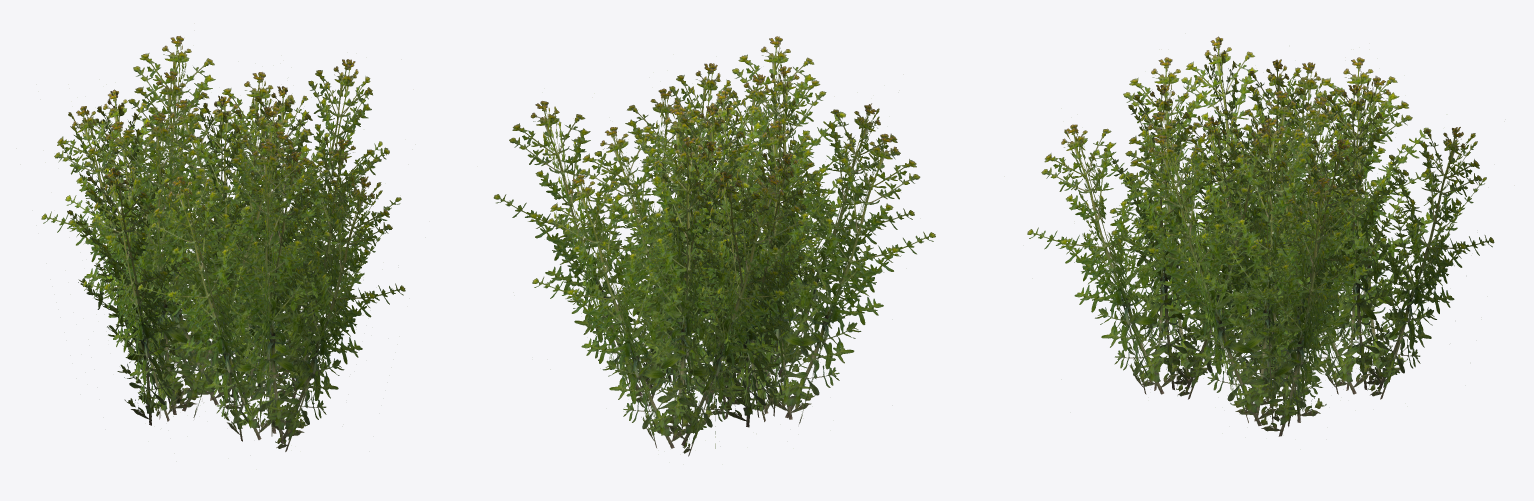
Rendered from bush6.FBX.
3 views of the same model, side by side, from view 1: azimuth 30°, elevation 25°; view 2: azimuth 150°, elevation 25°; view 3: azimuth 270°, elevation 25° (orthographic).
Visible parts, largest first — view 1: Box001; view 2: Box001; view 3: Box001.
Part boxes in pixels (x1=…): Box001: x1=41, y1=36, x2=405, y2=451; Box001: x1=493, y1=36, x2=935, y2=456; Box001: x1=1027, y1=36, x2=1494, y2=436.
Bounding box in the file's own units: 4.32 × 3.29 × 4.61.
